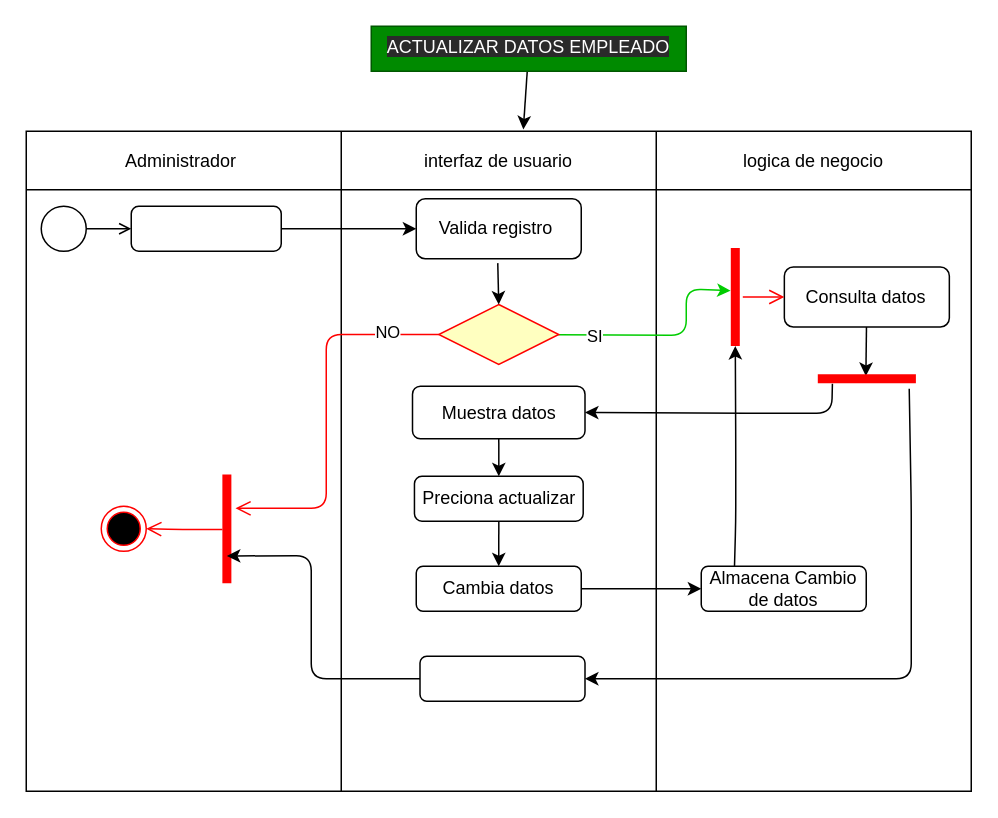
The diagram is 998 pixels wide and 818 high, and some of its shapes have lost their labels. Here are the shapes that lost their labels. From the top down, the centre of each, then its label:
the point at 205,228: Ingresa Empleado
the point at 498,333: Existe
the point at 501,678: Muestra nuevos datos
